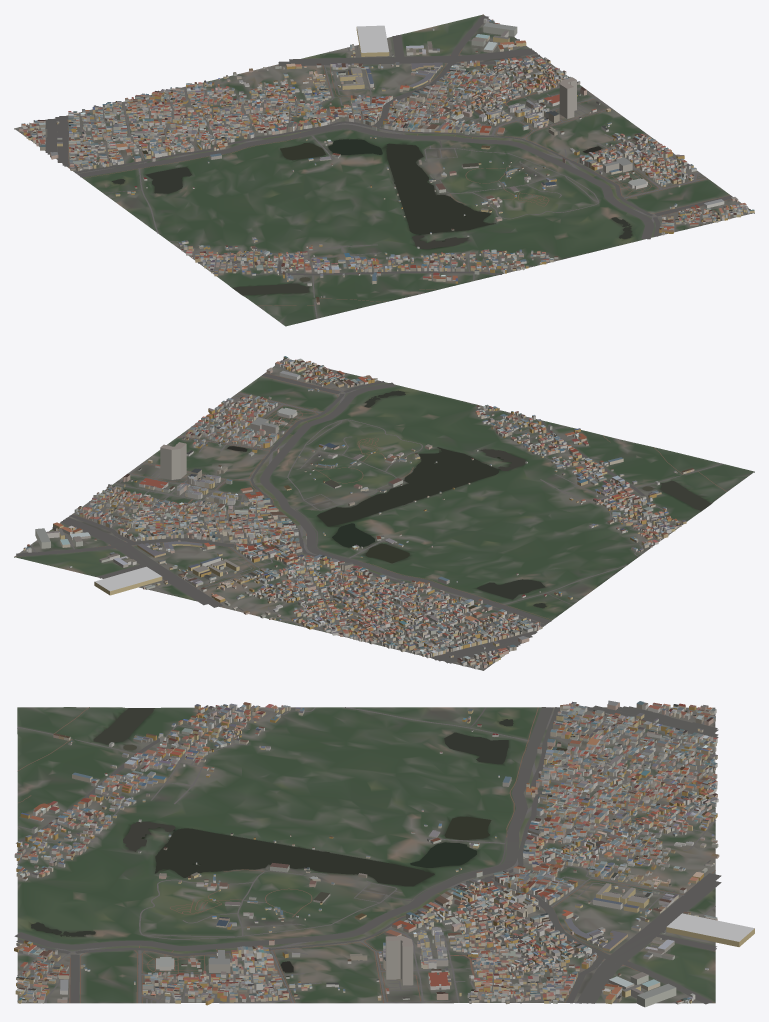
3 views of the same model, one above another, from view 1: azimuth 30°, elevation 25°; view 2: azimuth 150°, elevation 25°; view 3: azimuth 270°, elevation 25° (orthographic). The views are drawn at different scales.
Parts seen in each view (by area): view 1: ground, buildings, roads, water; view 2: ground, buildings, roads, water; view 3: ground, buildings, roads, water.
Part boxes in pixels (box(x1,y1,x2,y2)): ground: box(14, 14, 754, 326); buildings: box(19, 18, 754, 304); roads: box(15, 14, 751, 318); water: box(111, 139, 632, 295); ground: box(14, 359, 754, 670); buildings: box(23, 356, 694, 669); roads: box(14, 359, 726, 669); water: box(227, 390, 710, 608); ground: box(17, 707, 715, 1003); buildings: box(14, 700, 754, 1007); roads: box(14, 705, 721, 1004); water: box(31, 708, 513, 972).
Size of the model in its own units: 1431 by 89.4 by 1488.
